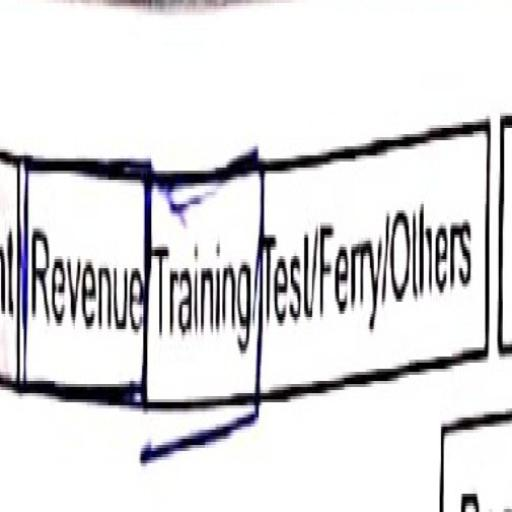check: (18, 124, 148, 460), (148, 142, 264, 448)
